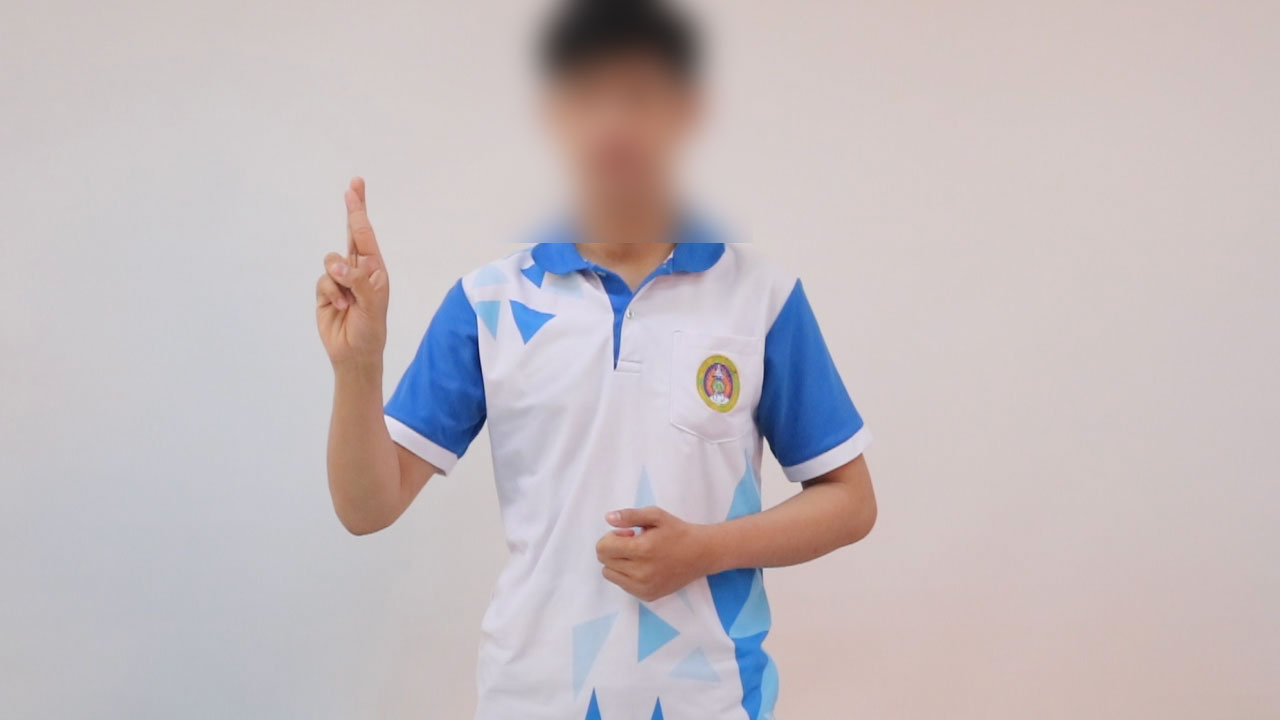rao: (292, 167, 407, 366)
